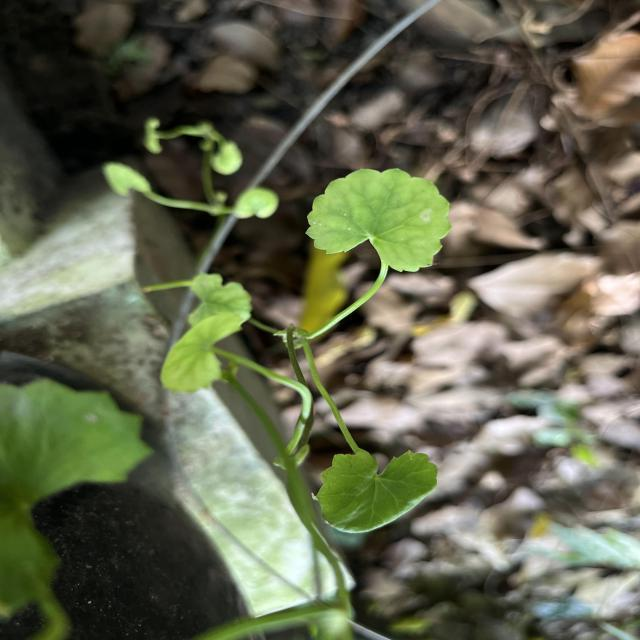Centella asiatica: (303, 166, 453, 274), (313, 447, 439, 535)
